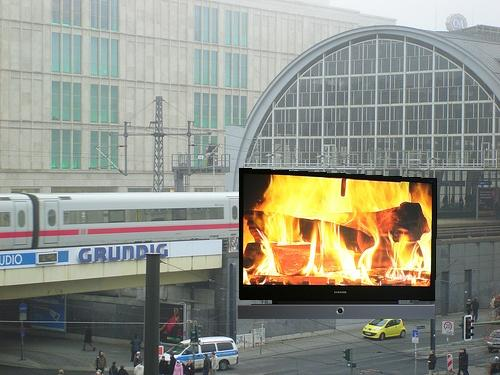tampered: (238, 169, 437, 319)
